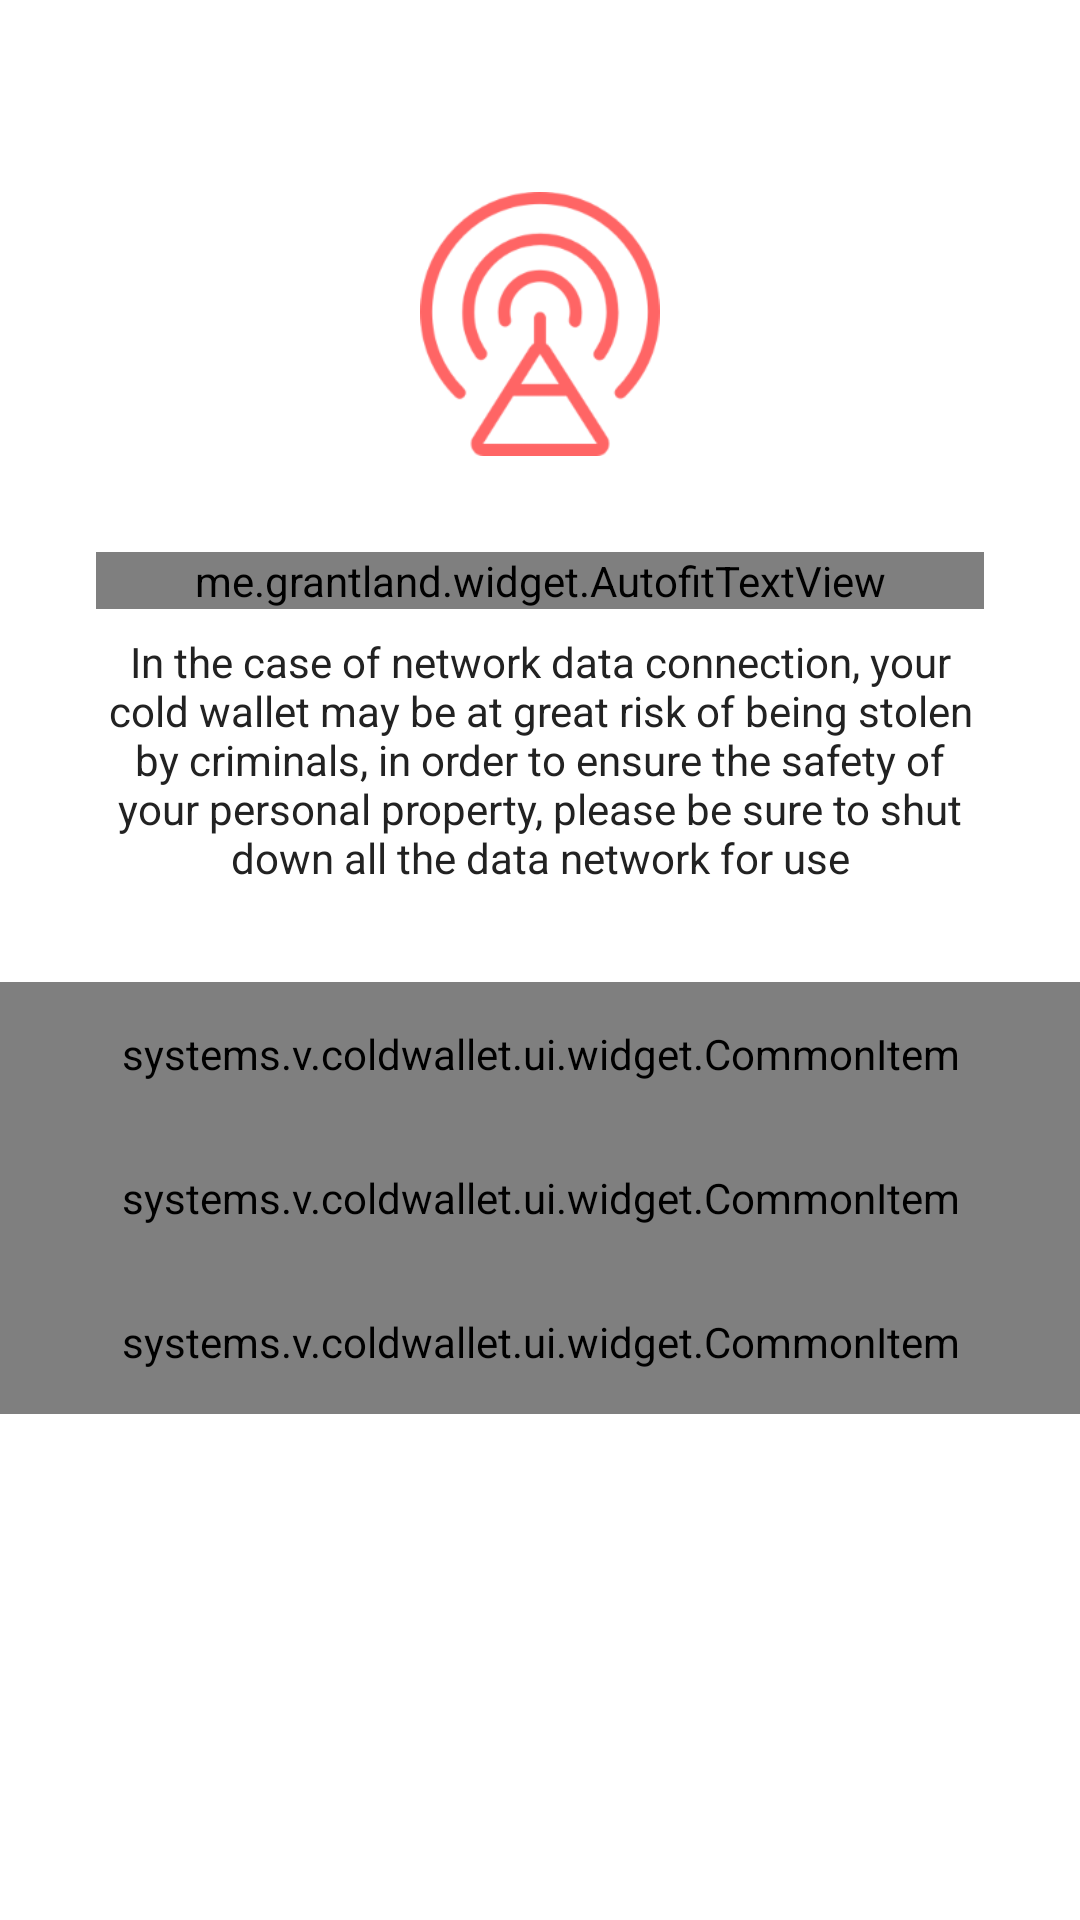

Named icons in this screenshot (1080w x 1920h) and their centers, (x,y):
monitor unsafe: (540,324)
